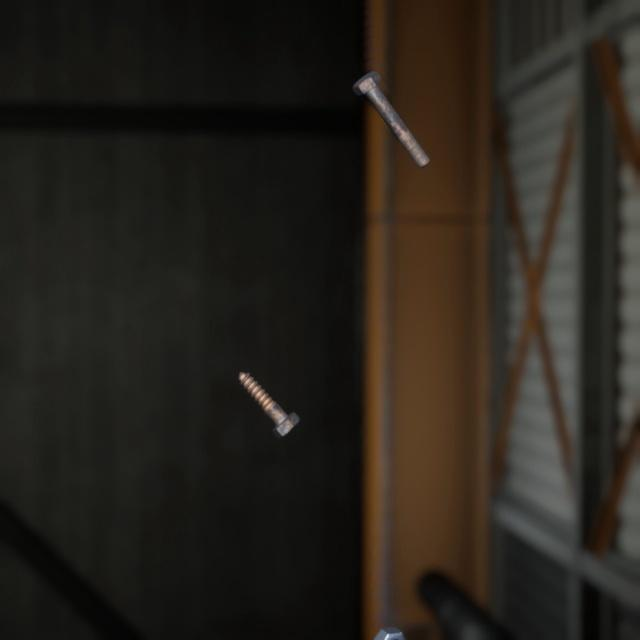bolt: (348, 55, 434, 161), (233, 347, 304, 422)
nut: (367, 599, 410, 640)
